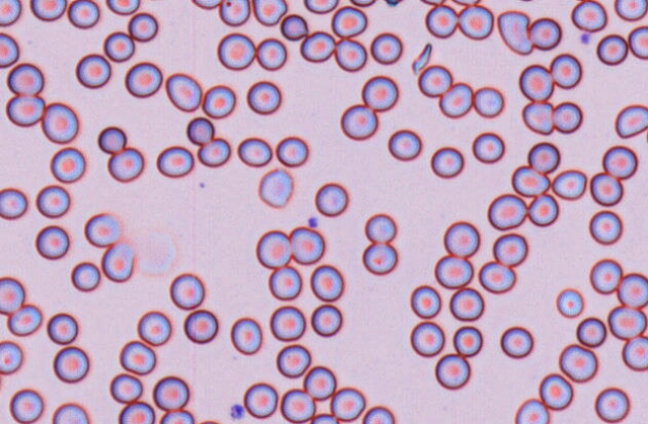PLT: (229, 403, 244, 420), (308, 216, 320, 228)
RBC: (558, 343, 598, 382), (41, 101, 78, 143), (487, 193, 527, 230), (217, 32, 255, 70), (165, 72, 201, 112), (52, 345, 89, 383), (443, 220, 480, 258), (124, 61, 162, 98), (255, 229, 291, 268), (258, 167, 293, 207), (361, 74, 398, 111), (340, 103, 377, 140), (288, 226, 324, 264), (607, 305, 646, 340), (434, 254, 473, 289), (434, 353, 470, 390), (594, 386, 630, 423), (538, 372, 573, 410), (101, 242, 134, 282), (457, 4, 493, 40), (269, 305, 305, 341), (518, 64, 553, 101), (152, 375, 189, 410), (409, 320, 444, 357), (107, 147, 144, 182), (119, 340, 156, 375), (169, 272, 204, 309), (50, 146, 85, 183), (6, 62, 44, 96), (5, 94, 44, 127), (275, 343, 311, 378), (602, 144, 638, 179), (243, 382, 278, 418), (438, 82, 473, 118), (75, 53, 111, 88), (588, 209, 623, 245), (84, 212, 120, 247), (478, 260, 515, 294), (309, 264, 343, 301), (156, 145, 194, 178), (230, 316, 262, 355), (280, 388, 315, 423), (330, 386, 365, 421), (492, 232, 527, 267), (549, 52, 582, 89), (511, 165, 549, 197), (9, 388, 43, 423), (268, 265, 302, 300), (589, 171, 623, 206), (449, 287, 484, 321), (137, 310, 171, 345), (246, 80, 281, 114), (183, 309, 218, 343), (35, 224, 69, 259), (35, 184, 70, 218), (331, 5, 367, 38), (589, 258, 622, 294), (570, 0, 607, 32), (201, 84, 235, 118), (314, 182, 348, 216), (7, 303, 42, 336), (303, 365, 336, 400), (417, 64, 452, 97), (362, 242, 397, 275), (521, 100, 554, 135), (299, 30, 335, 62), (551, 168, 587, 200), (617, 272, 648, 309), (528, 16, 561, 50), (425, 4, 458, 38), (499, 325, 533, 358), (334, 38, 367, 71), (527, 141, 560, 174), (409, 284, 441, 318), (310, 303, 342, 337), (387, 128, 421, 160), (237, 136, 272, 167), (527, 193, 559, 226), (255, 37, 287, 70), (472, 85, 504, 118), (370, 31, 402, 64), (275, 135, 308, 167), (471, 131, 504, 163), (430, 146, 463, 178), (109, 372, 143, 403), (596, 33, 628, 65), (46, 312, 78, 344), (364, 212, 396, 243), (197, 137, 230, 167), (0, 276, 25, 315), (575, 316, 606, 347), (103, 31, 134, 62), (452, 325, 482, 357), (552, 101, 582, 133), (621, 335, 647, 371), (127, 11, 158, 41), (70, 261, 100, 292), (251, 0, 287, 25), (555, 287, 584, 318), (67, 0, 99, 28), (514, 398, 549, 423), (0, 187, 27, 219), (97, 125, 126, 154), (218, 0, 250, 26), (118, 401, 155, 423), (186, 116, 214, 145), (0, 339, 23, 374), (51, 402, 89, 423), (29, 0, 66, 21), (280, 13, 308, 40), (614, 0, 647, 21), (0, 32, 19, 67), (628, 25, 647, 59), (362, 405, 394, 423), (0, 0, 21, 26), (105, 0, 140, 15), (159, 409, 194, 423), (303, 0, 338, 14), (310, 413, 338, 423), (191, 0, 221, 9), (349, 0, 376, 7), (451, 0, 481, 5), (419, 0, 446, 5), (197, 419, 221, 424), (383, 0, 403, 6), (645, 125, 648, 147)
Schistocyte: (497, 12, 534, 55), (613, 103, 648, 138), (411, 43, 432, 73)
